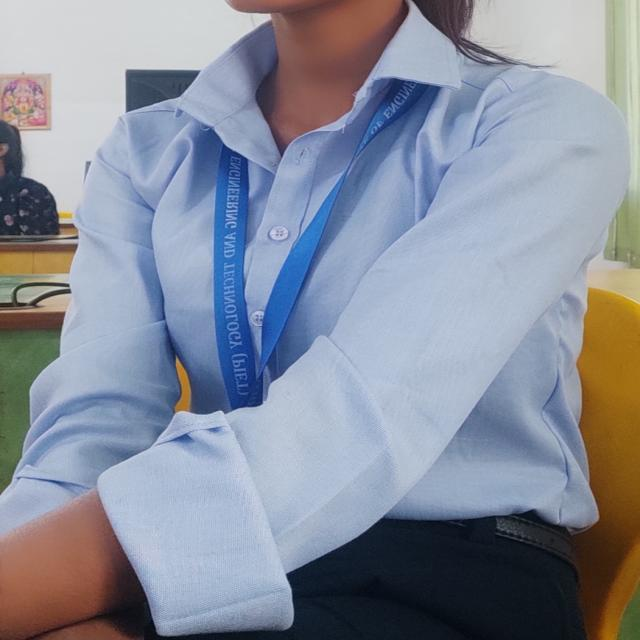uniform: (1, 3, 632, 637)
